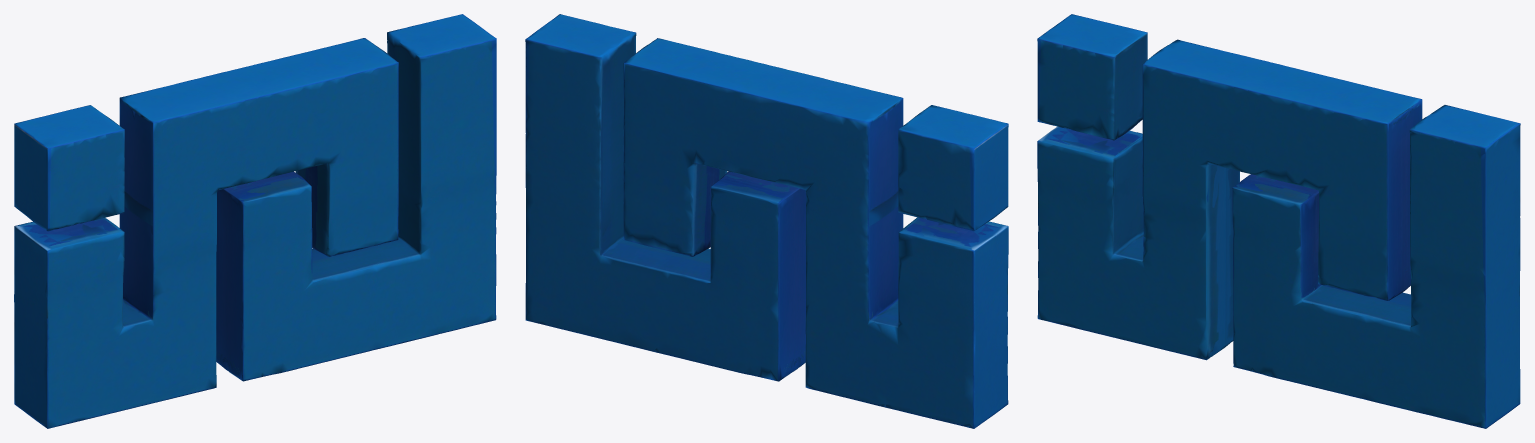
The model's file is UNI.gltf.
3 renders of one model, left to right at view 1: azimuth 30°, elevation 25°; view 2: azimuth 150°, elevation 25°; view 3: azimuth 330°, elevation 25°, orthographic.
Visible parts, largest first — view 1: Mesh_0; view 2: Mesh_0; view 3: Mesh_0.
Part boxes in pixels (box(x1,y1,x2,y2)): Mesh_0: box(14, 14, 496, 428); Mesh_0: box(525, 14, 1008, 428); Mesh_0: box(1037, 14, 1520, 428).
Bounding box in the file's own units: 2 × 1.2 × 0.269.
1 material, 1 textured.
